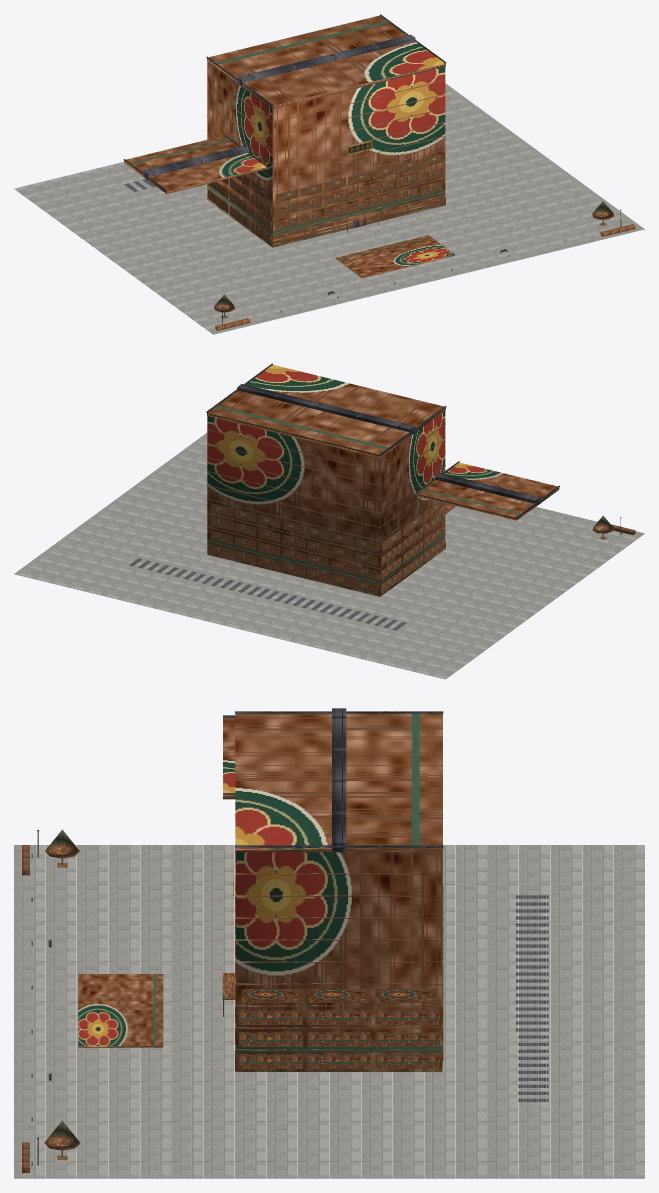
3 views of the same model, one above another, from view 1: azimuth 30°, elevation 25°; view 2: azimuth 150°, elevation 25°; view 3: azimuth 270°, elevation 25° (orthographic). The views are drawn at different scales.
Parts seen in each view (by area): view 1: 11710_01_05556_005_01__plinth_ground_base, 11710_01_05556_005_02__mass_body_facade, 11710_01_05556_005_03__roof_metal_ornament, 11710_01_05556_005_05__window_sash_glass, 11710_01_05556_005_06__landscape_greenery; view 2: 11710_01_05556_005_01__plinth_ground_base, 11710_01_05556_005_02__mass_body_facade, 11710_01_05556_005_03__roof_metal_ornament, 11710_01_05556_005_03__roof_deck_structure; view 3: 11710_01_05556_005_01__plinth_ground_base, 11710_01_05556_005_02__mass_body_facade, 11710_01_05556_005_03__roof_deck_structure, 11710_01_05556_005_03__roof_metal_ornament, 11710_01_05556_005_06__landscape_greenery.
Part boxes in pixels (x1,y1,x2,y2): 11710_01_05556_005_01__plinth_ground_base: [14, 83, 644, 334]; 11710_01_05556_005_02__mass_body_facade: [124, 15, 455, 278]; 11710_01_05556_005_03__roof_metal_ornament: [123, 14, 446, 191]; 11710_01_05556_005_05__window_sash_glass: [283, 169, 434, 241]; 11710_01_05556_005_06__landscape_greenery: [214, 201, 635, 330]; 11710_01_05556_005_01__plinth_ground_base: [14, 433, 644, 679]; 11710_01_05556_005_02__mass_body_facade: [207, 365, 559, 596]; 11710_01_05556_005_03__roof_metal_ornament: [206, 363, 559, 517]; 11710_01_05556_005_03__roof_deck_structure: [129, 558, 406, 630]; 11710_01_05556_005_01__plinth_ground_base: [14, 845, 644, 1178]; 11710_01_05556_005_02__mass_body_facade: [78, 713, 443, 1071]; 11710_01_05556_005_03__roof_deck_structure: [516, 895, 548, 1101]; 11710_01_05556_005_03__roof_metal_ornament: [223, 708, 443, 852]; 11710_01_05556_005_06__landscape_greenery: [22, 829, 80, 1172].
Size of the model in its own units: 130 by 43 by 104.
Materials: 7 (7 with a texture image).
